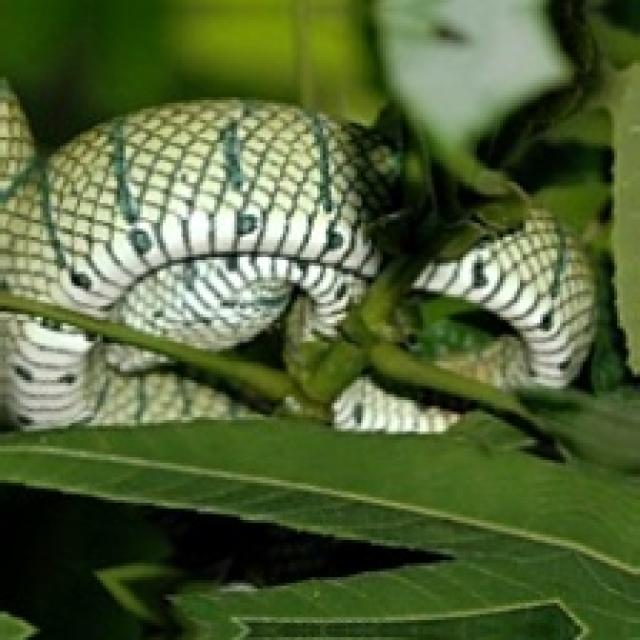north ph temple pitviper: (0, 83, 386, 354), (400, 209, 591, 386), (0, 314, 249, 426), (331, 374, 454, 429)
